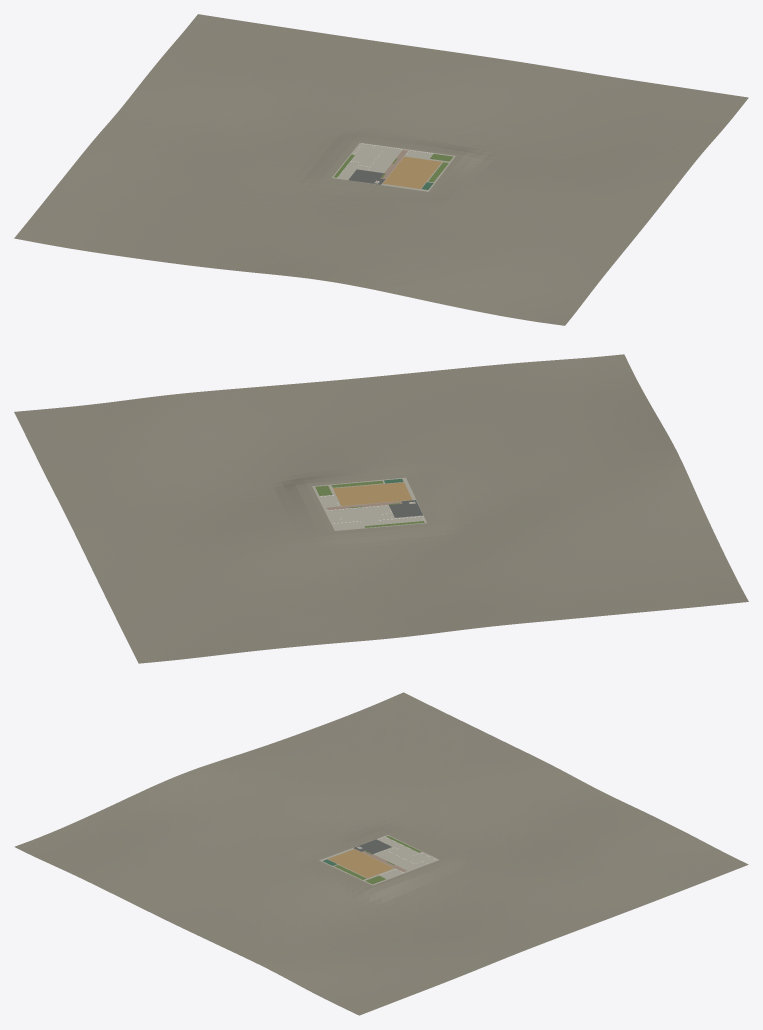
3 views of the same model, one above another, from view 1: azimuth 30°, elevation 25°; view 2: azimuth 150°, elevation 25°; view 3: azimuth 270°, elevation 25° (orthographic). The views are drawn at different scales.
Visible parts, largest first — view 1: ground_context-estimated, surface_sports-field, surface_school-paved-walk; view 2: ground_context-estimated, surface_sports-field, surface_school-paved-walk, surface_underbuilding-main; view 3: ground_context-estimated, surface_sports-field, surface_school-paved-walk.
Boxes of the visible parts, left/top/right/bottom form: ground_context-estimated: left=14, top=14, right=748, bottom=325; surface_sports-field: left=383, top=156, right=441, bottom=188; surface_school-paved-walk: left=332, top=143, right=455, bottom=191; ground_context-estimated: left=14, top=354, right=748, bottom=663; surface_sports-field: left=333, top=482, right=412, bottom=505; surface_school-paved-walk: left=312, top=477, right=426, bottom=530; surface_underbuilding-main: left=326, top=505, right=391, bottom=518; ground_context-estimated: left=14, top=692, right=748, bottom=1015; surface_sports-field: left=328, top=849, right=394, bottom=878; surface_school-paved-walk: left=319, top=835, right=439, bottom=885.
Size of the model in its own units: 1016 by 21.58 by 1016.
Materials: 7 (7 with a texture image).
